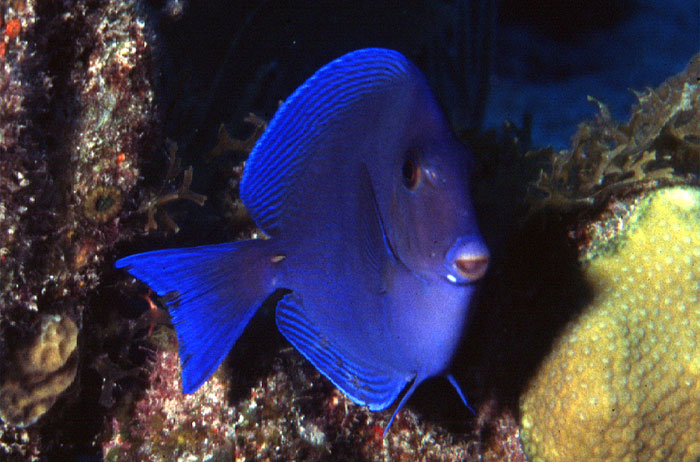Acanthurus_coeruleus: (102, 48, 501, 420)
